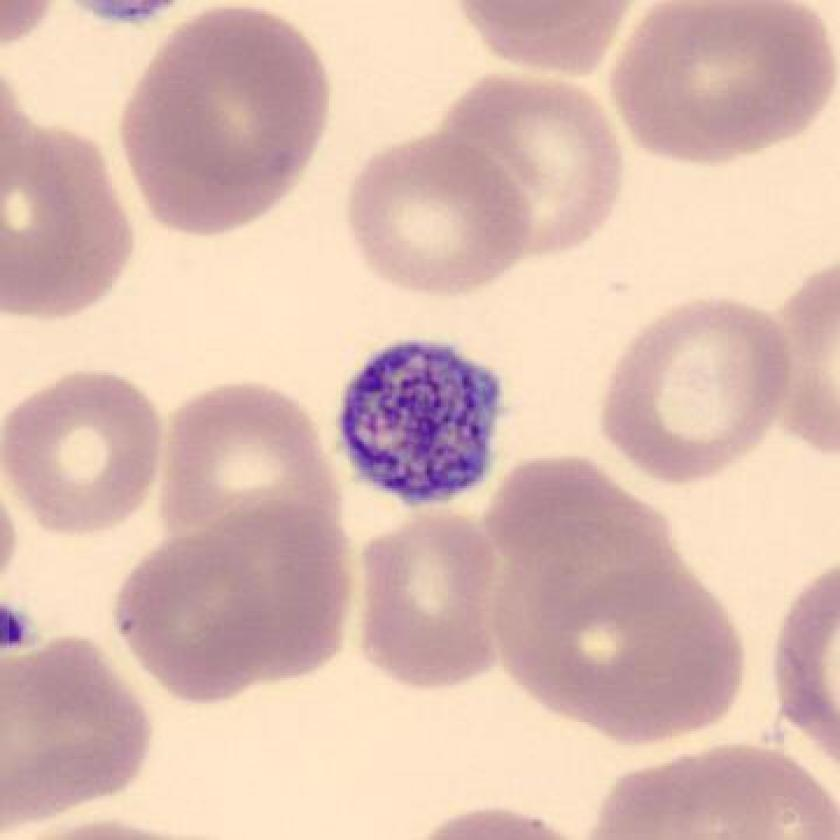platelets: (321, 334, 517, 515)
